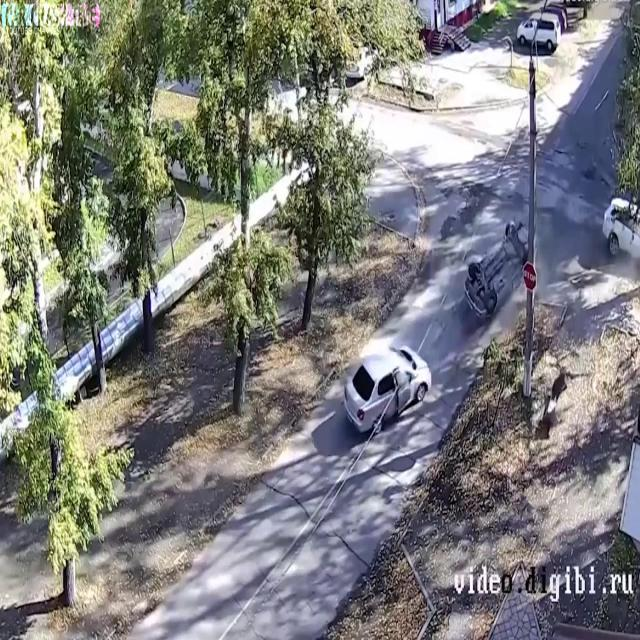accident: (457, 208, 542, 329)
